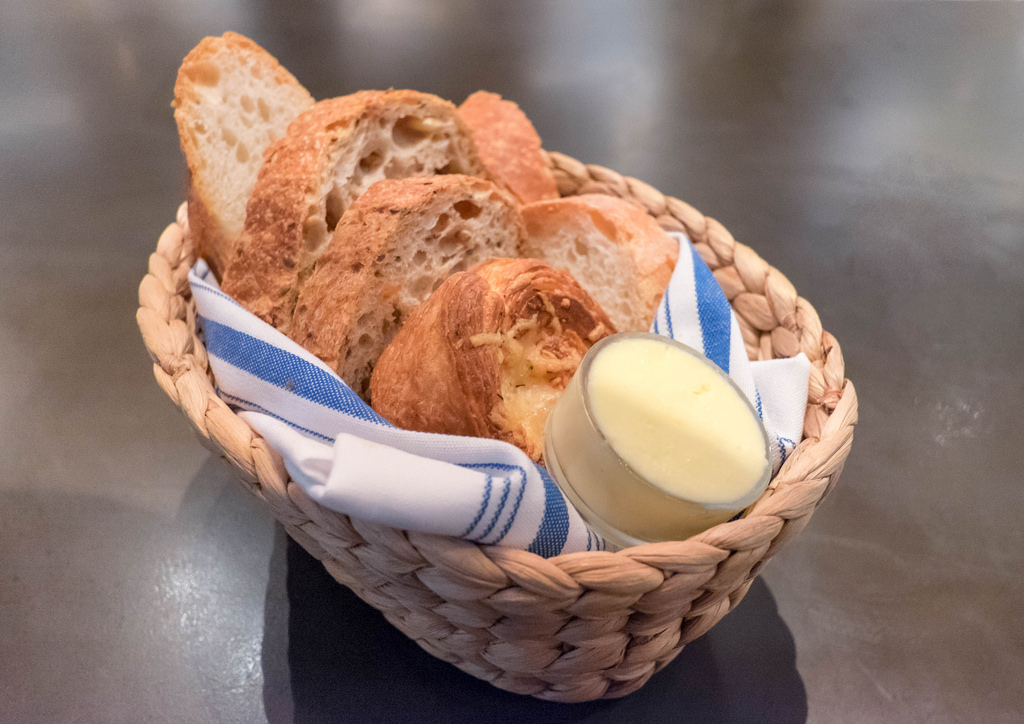slice of bread: (163, 29, 680, 452)
